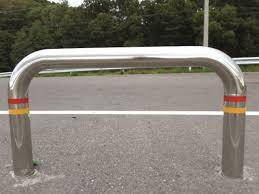Animal: (6, 51, 241, 182)
